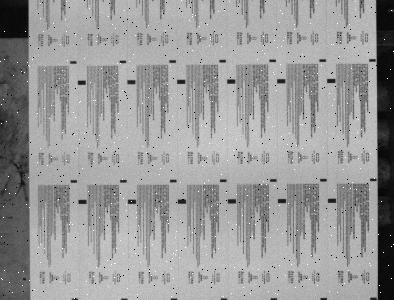qblock: (77, 80, 86, 85), (177, 79, 186, 84), (327, 78, 336, 83), (227, 79, 236, 84), (78, 199, 87, 204), (328, 198, 337, 203), (178, 199, 187, 204), (128, 199, 136, 204), (127, 80, 136, 84), (278, 199, 287, 203), (278, 79, 286, 83), (228, 199, 236, 203)
smallqblock: (219, 59, 227, 63), (70, 179, 78, 183), (120, 179, 127, 183), (119, 60, 127, 63), (269, 59, 277, 62), (169, 60, 177, 63), (319, 59, 327, 62), (270, 179, 278, 182), (370, 178, 378, 181), (70, 61, 77, 64), (370, 59, 377, 62), (170, 179, 177, 182), (220, 179, 227, 182), (320, 178, 327, 181), (170, 297, 177, 300), (271, 297, 278, 300), (221, 297, 228, 300), (121, 297, 128, 300), (321, 297, 327, 300), (371, 297, 377, 300), (71, 298, 78, 300)
